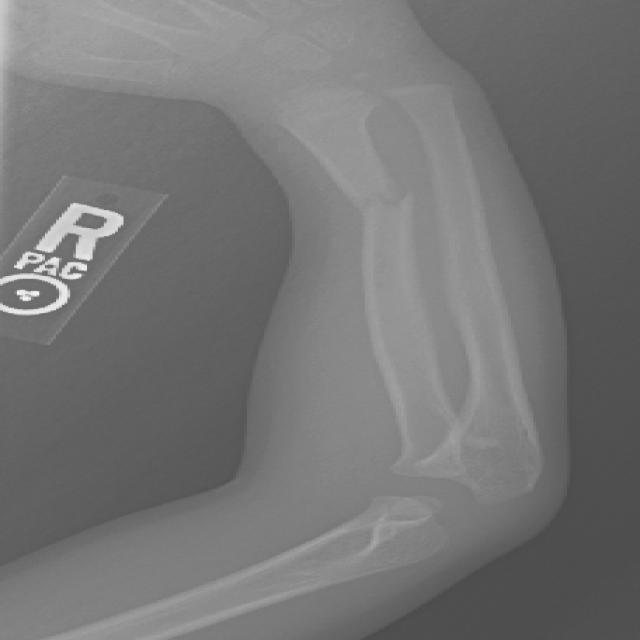forearm fracture: (312, 164, 481, 270)
